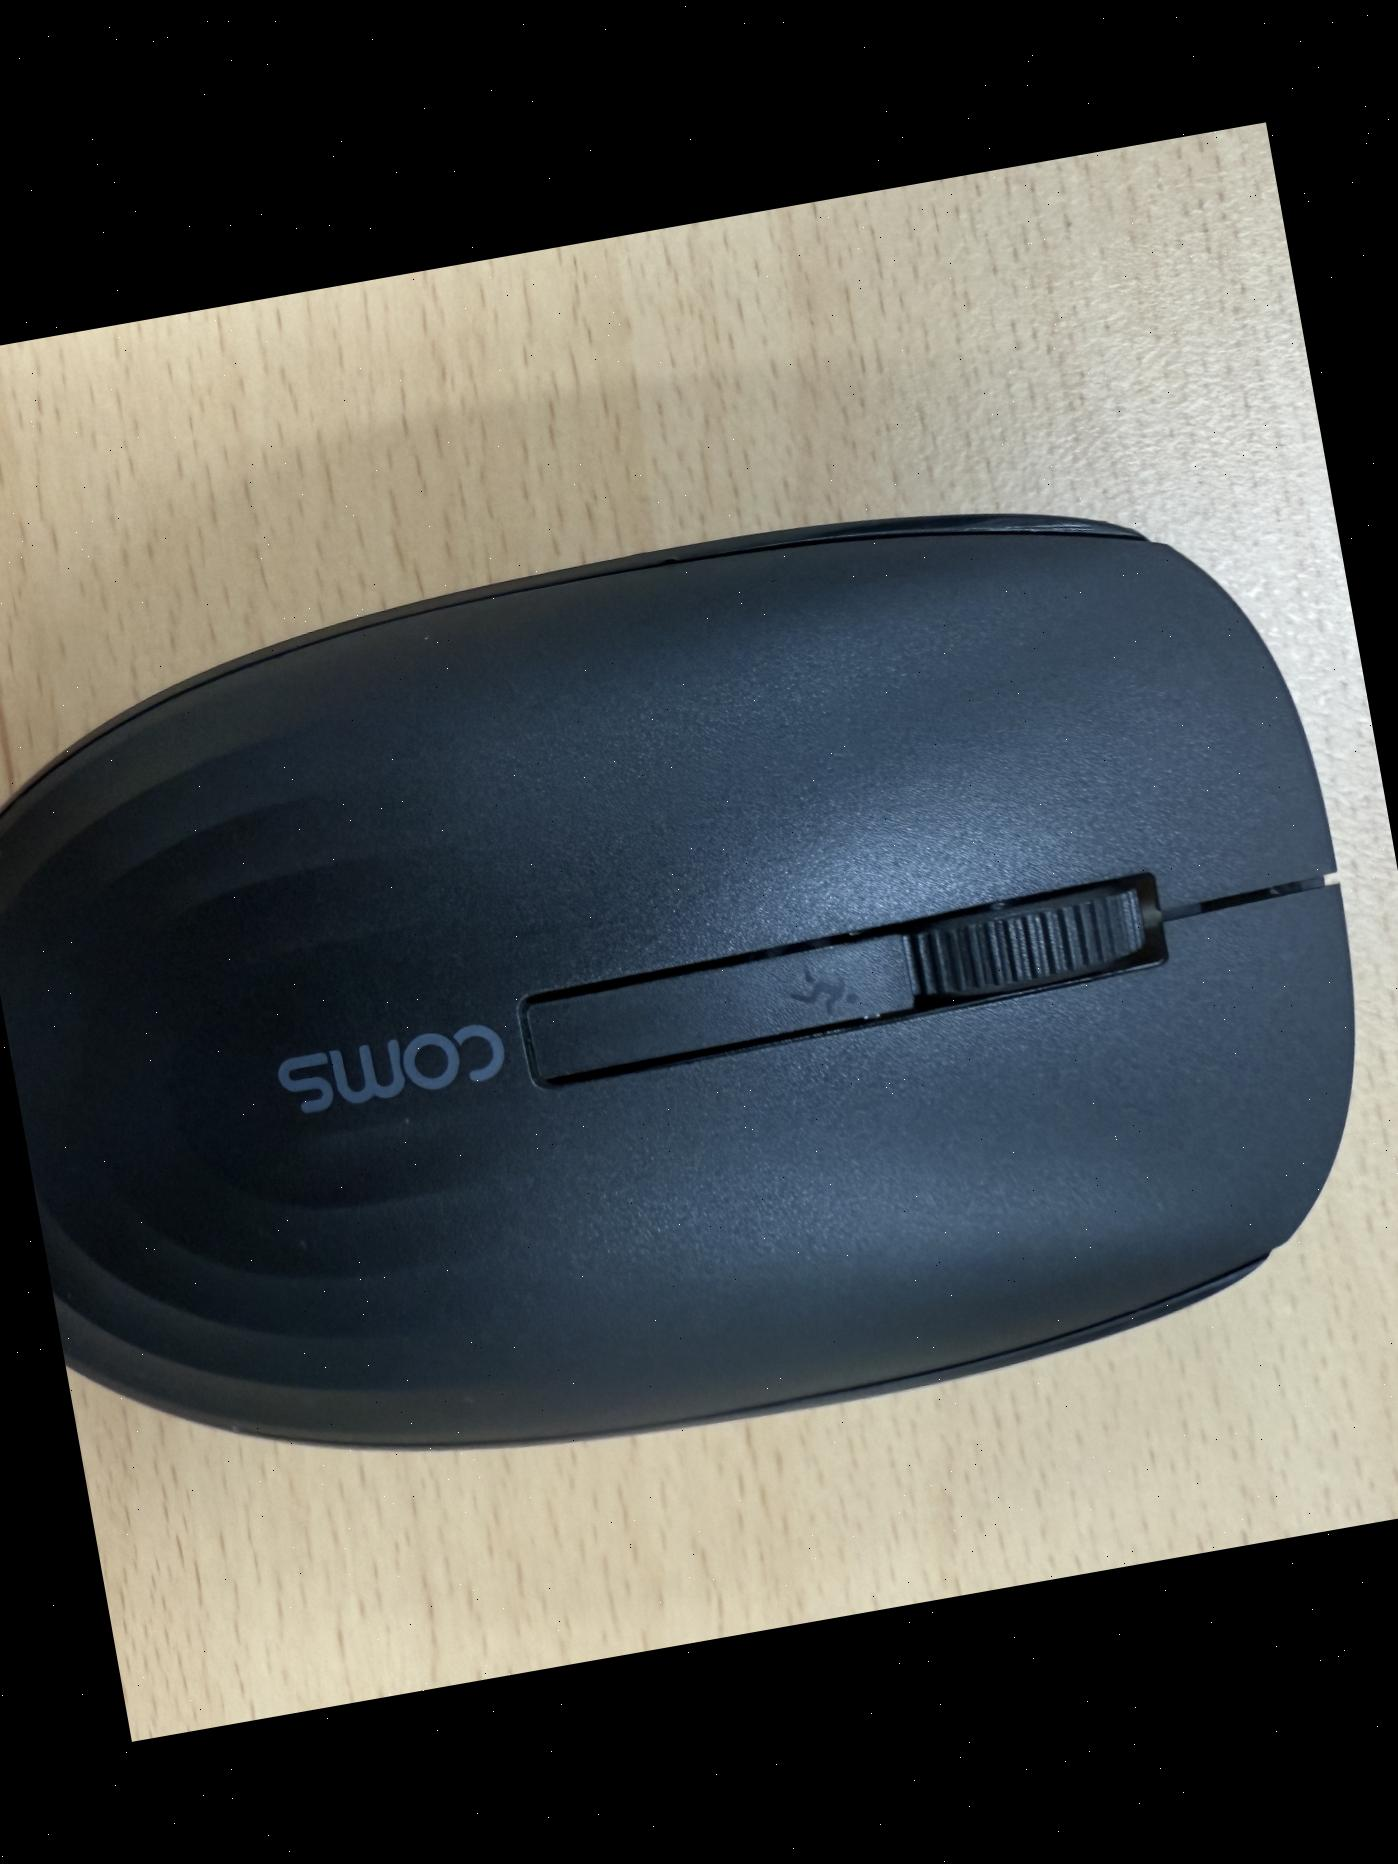front: (0, 434, 1398, 1537)
